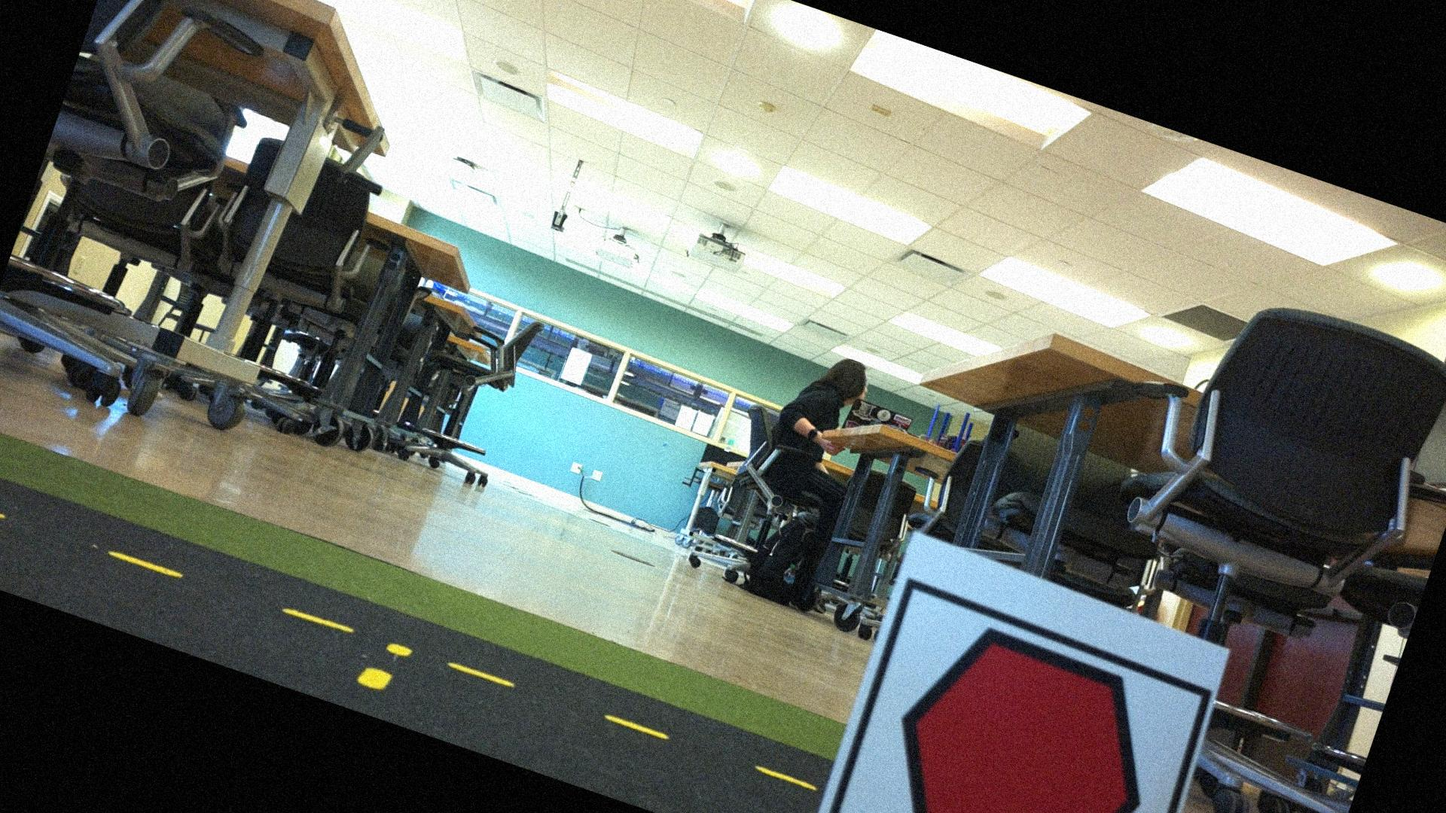stop: (846, 596, 1191, 812)
yellowline: (0, 480, 812, 796), (352, 630, 418, 702)
